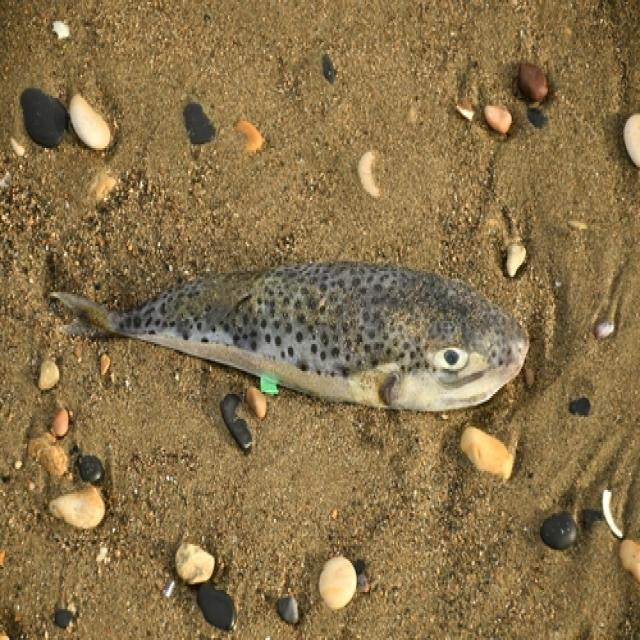Balik: (53, 264, 528, 411)
